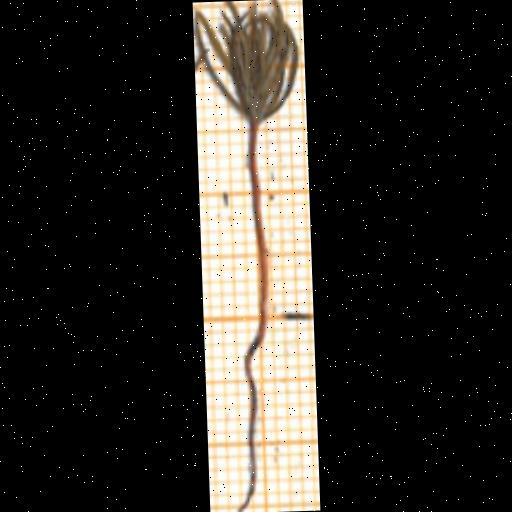flowerPinus: (195, 0, 299, 124)
rootPinus: (236, 325, 268, 512)
stemPinus: (247, 123, 269, 318)
